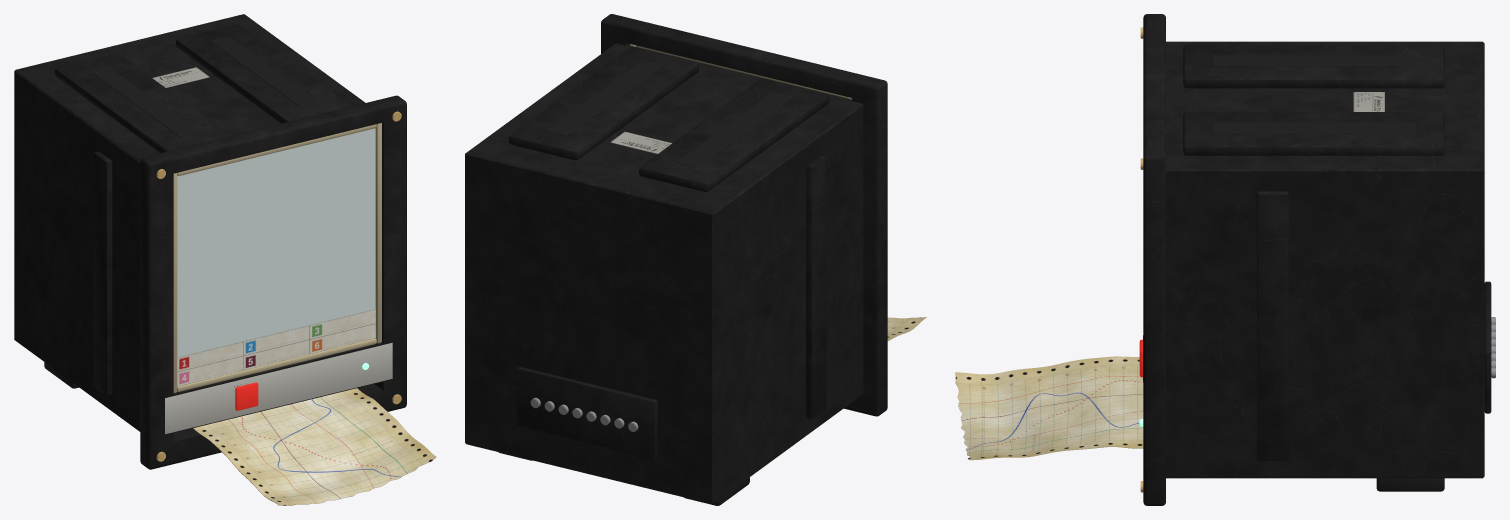
Rendered from StripChartRecorder.fbx.
3 views of the same model, side by side, from view 1: azimuth 30°, elevation 25°; view 2: azimuth 150°, elevation 25°; view 3: azimuth 270°, elevation 25° (orthographic). The views are drawn at different scales.
Visible parts, largest first — view 1: Body_BlackPlastic, Glass, ChartPaper, PanelDecal, LabelStrip, Window_Rim_Beige, Feet_RailSlots_Rubber, DataPlate, RedLamp; view 2: Body_BlackPlastic, Feet_RailSlots_Rubber, Metal_Drum_Hardware, DataPlate, ChartPaper; view 3: Body_BlackPlastic, ChartPaper, Feet_RailSlots_Rubber, DataPlate.
Part boxes in pixels (bbox=[...]): Body_BlackPlastic: bbox=[14, 14, 406, 469]; Glass: bbox=[177, 128, 375, 357]; ChartPaper: bbox=[193, 388, 436, 505]; PanelDecal: bbox=[165, 342, 392, 434]; LabelStrip: bbox=[177, 309, 375, 386]; Window_Rim_Beige: bbox=[173, 123, 381, 393]; Feet_RailSlots_Rubber: bbox=[44, 36, 317, 388]; DataPlate: bbox=[152, 67, 209, 87]; RedLamp: bbox=[235, 382, 258, 410]; Body_BlackPlastic: bbox=[465, 14, 887, 504]; Feet_RailSlots_Rubber: bbox=[498, 60, 792, 505]; Metal_Drum_Hardware: bbox=[530, 397, 638, 431]; DataPlate: bbox=[610, 131, 672, 153]; ChartPaper: bbox=[887, 317, 926, 340]; Body_BlackPlastic: bbox=[1143, 14, 1491, 505]; ChartPaper: bbox=[955, 356, 1143, 460]; Feet_RailSlots_Rubber: bbox=[1211, 55, 1444, 491]; DataPlate: bbox=[1353, 92, 1384, 111].
Bounding box in the file's own units: 0.3 × 0.34 × 0.4756.
